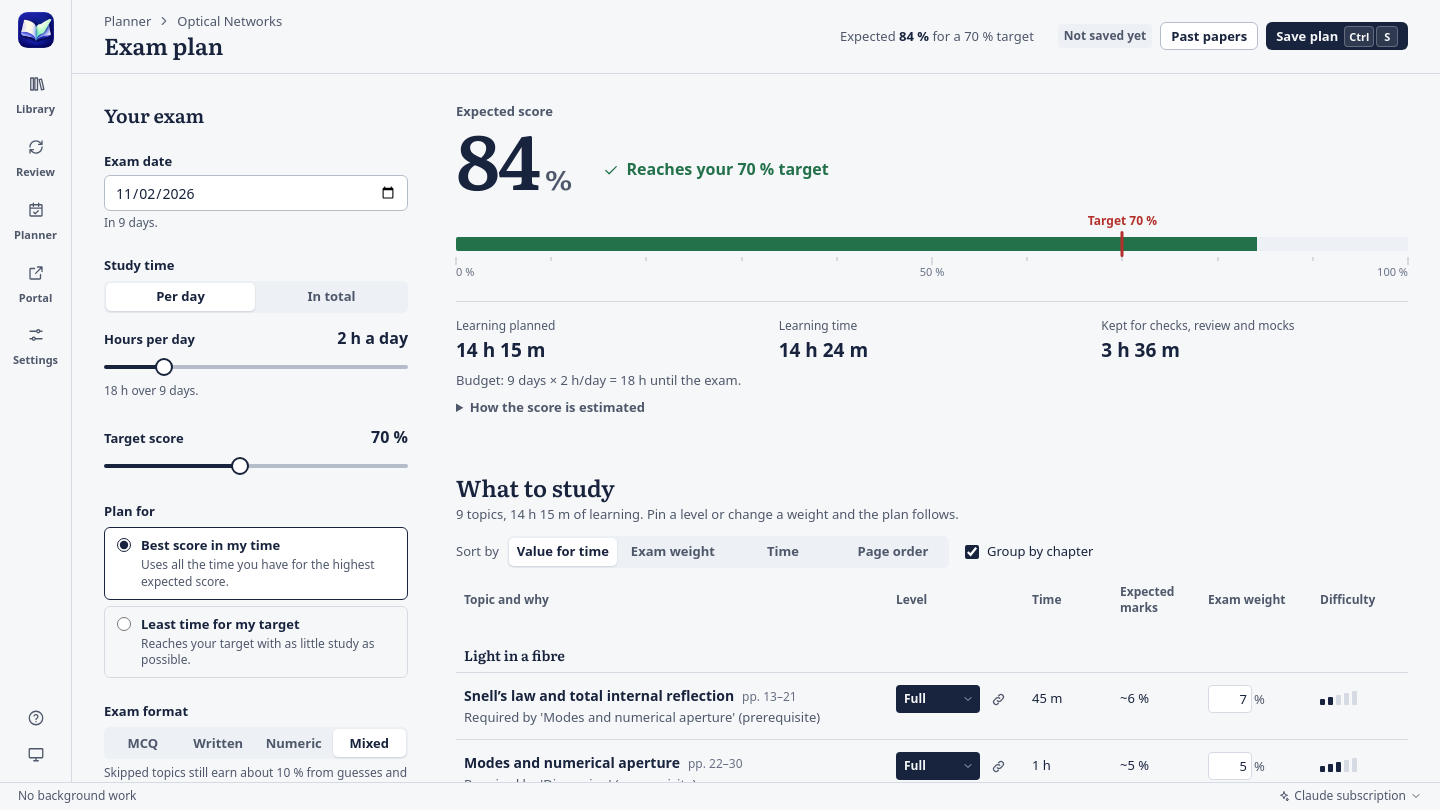
Test case: PlannerScreen › the infeasible note’s "Use …" button sets total hours and makes the plan feasible
This screenshot has width=1440, height=810.
expect the element "Expected score" is shown: met, box [456,102,1408,417]
Click the radio button labelled "In total". click: (331, 296)
box: [307,287,356,305]
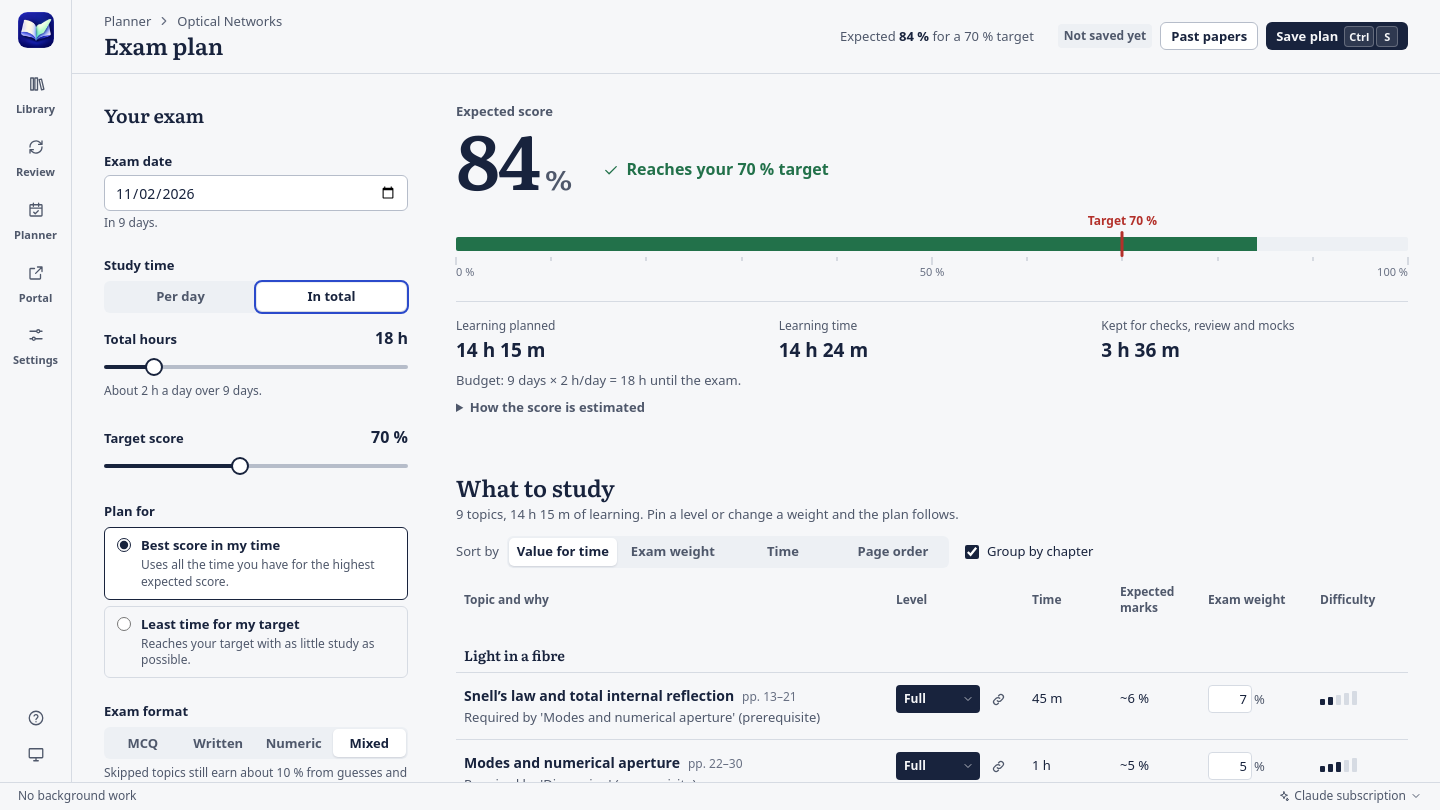
Set the slider labelled "Total hours" to "8". click: (129, 367)
box: [104,355,408,379]
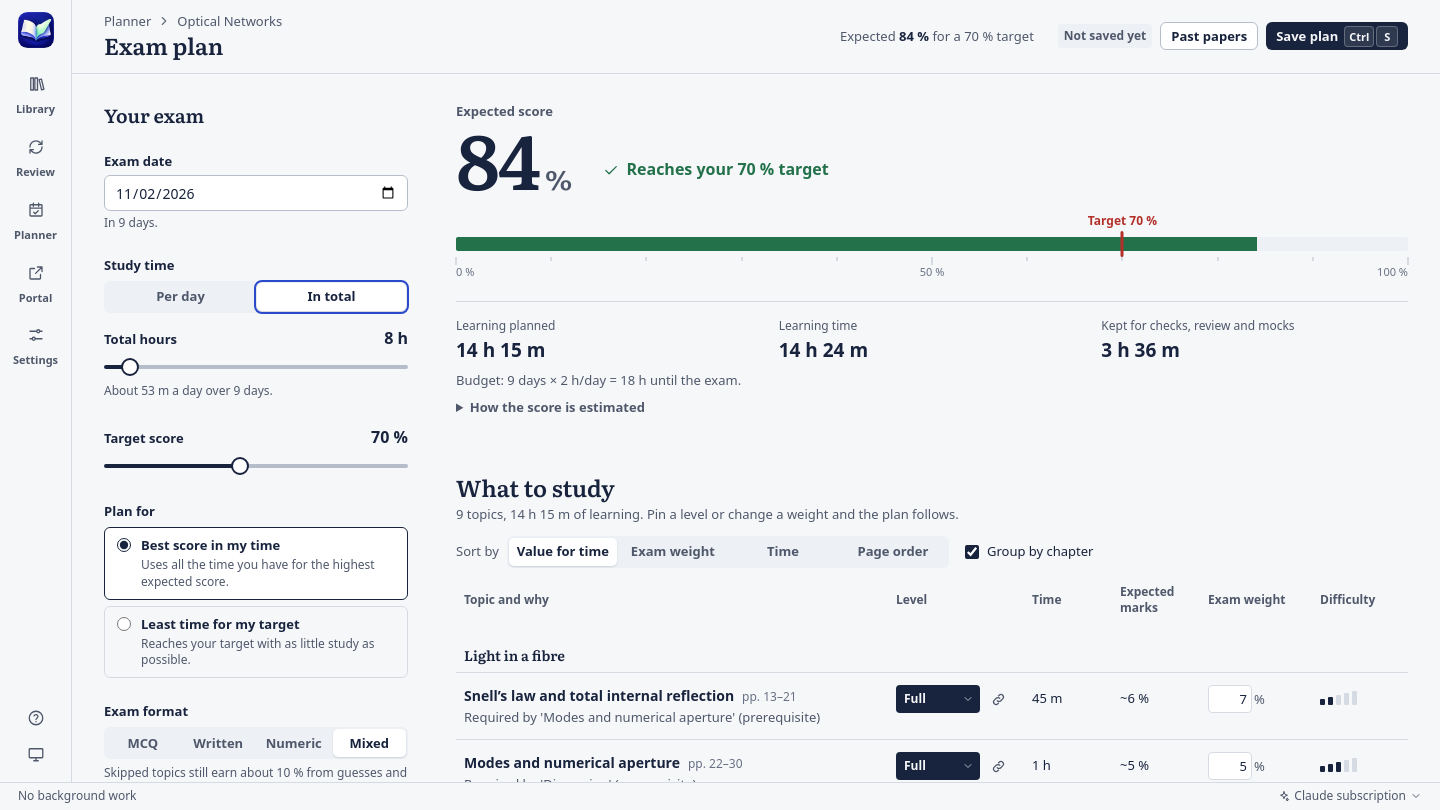
Set the slider labelled "Target score" to "75". click: (272, 466)
box: [104,454,408,478]
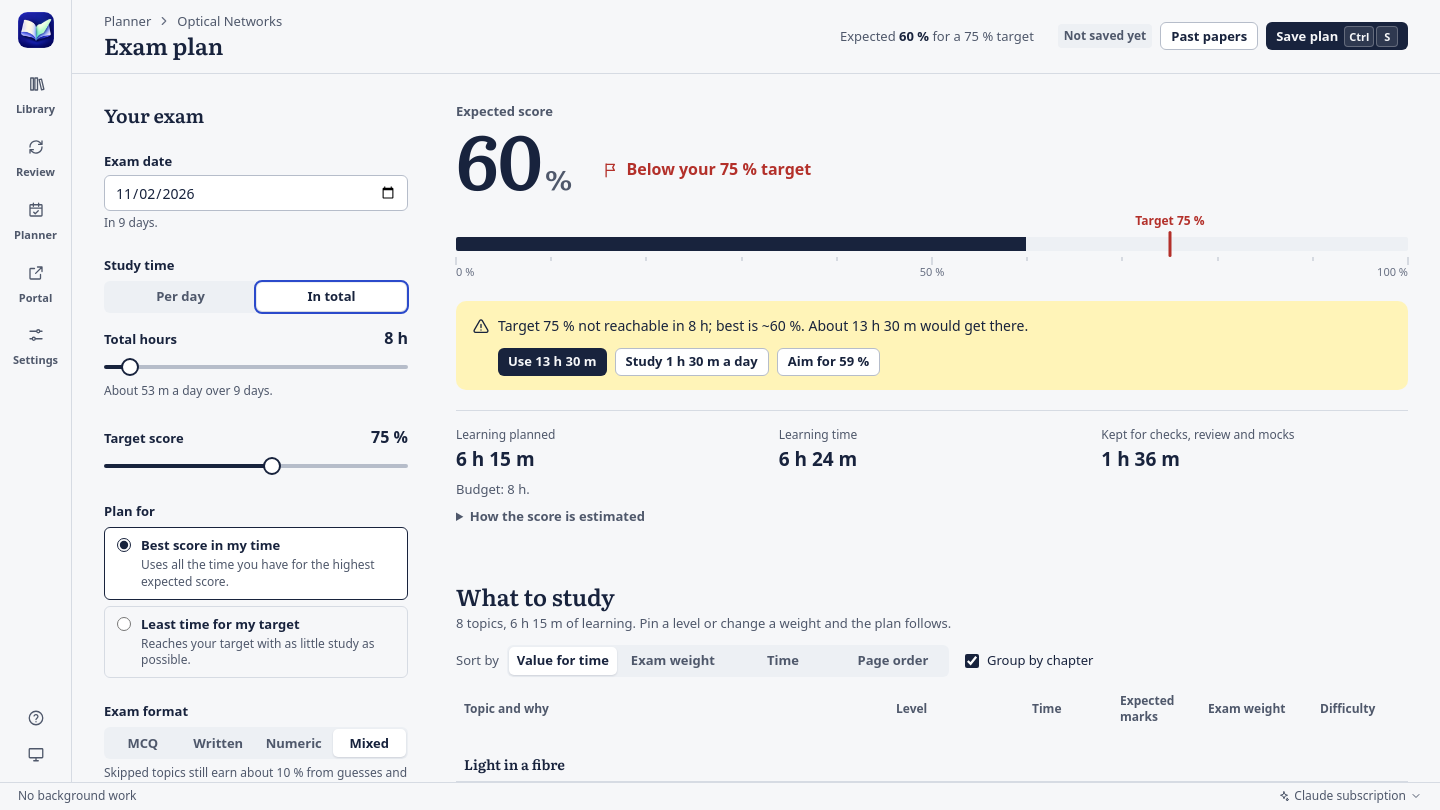
expect the text "Below your 75 % target" is shown: met, box [626,156,811,183]
Click the button "Use 13 h 30 m". click: (552, 362)
box: [498,348,606,376]
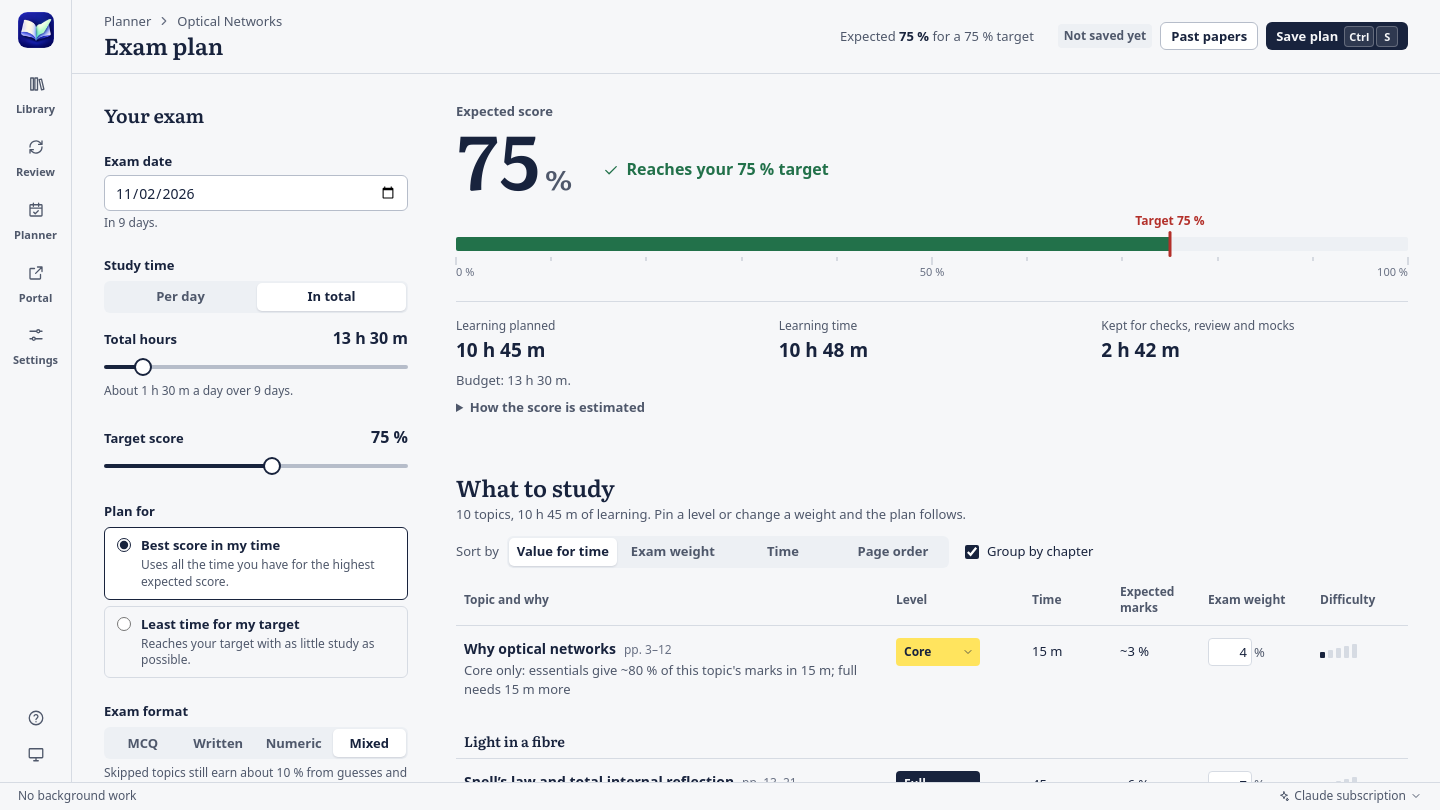
expect the text "Reaches your 75 % target" is shown: met, box [626,156,829,183]
expect the button "Use 13 h 30 m" is gone: met
